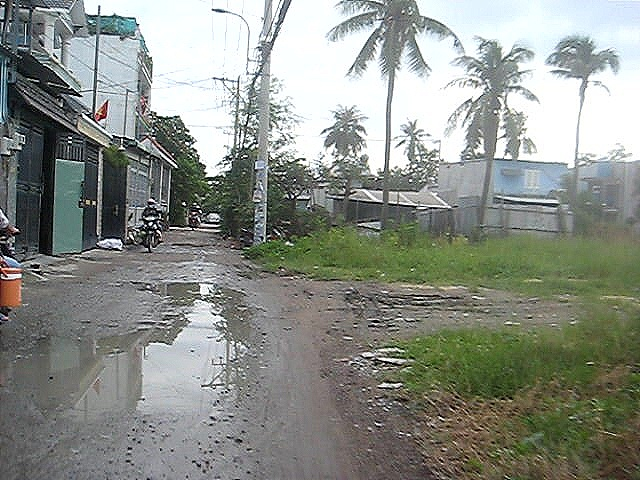hole: (22, 307, 277, 462), (116, 277, 250, 303), (169, 242, 221, 250)
